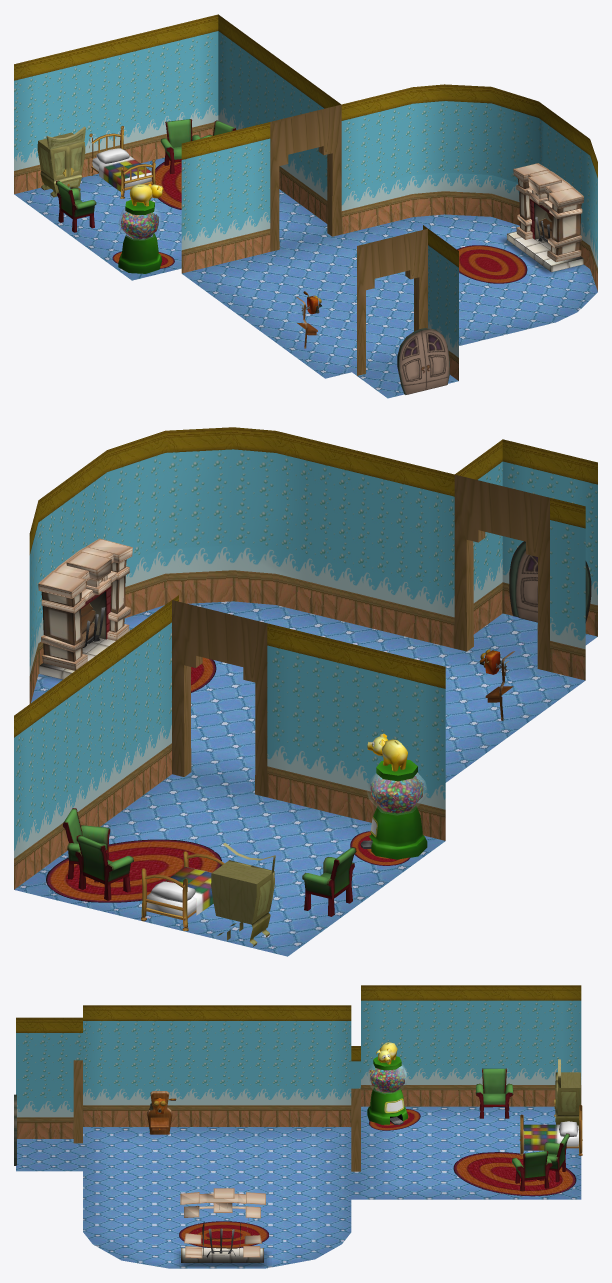
Rendered from house_interior.glb.
3 renders of one model, top to bottom at view 1: azimuth 30°, elevation 25°; view 2: azimuth 150°, elevation 25°; view 3: azimuth 270°, elevation 25°, orthographic. The views are drawn at different scales.
Visible parts, largest first — view 1: floor, wall_front_middle, wall_front_middle2, floor2, wall_side_middle (×2), wall_front_bottom, FireplaceSquare, wall_front_top, wall_front_middle_border, arch, arch1, wall_front_top2 (+20 smaller); view 2: wall_front_middle, floor, floor2, wall_front_middle2, wall_side_middle (×2), wall_front_top, wall_front_bottom, FireplaceSquare, arch1, arch, wall_front_middle_border, wall_side_bottom2 (+25 smaller); view 3: floor, wall_side_middle (×2), floor2, wall_side_bottom, wall_side_top, wall_side_middle_border, FireplaceSquare, wall_side_top2, wall_side_bottom2, windowcut_b, windowcut_a, wall_side_middle2_border (+15 smaller).
Part boxes in pixels (bbox=[...]): floor: bbox=[182, 214, 597, 398]; wall_front_middle: bbox=[181, 101, 597, 249]; wall_front_middle2: bbox=[14, 31, 218, 152]; floor2: bbox=[14, 157, 327, 280]; wall_side_middle (×2): bbox=[218, 31, 458, 338]; wall_front_bottom: bbox=[181, 191, 597, 291]; FireplaceSquare: bbox=[507, 163, 583, 272]; wall_front_top: bbox=[181, 84, 597, 177]; wall_front_middle_border: bbox=[181, 172, 597, 267]; arch: bbox=[270, 104, 341, 251]; arch1: bbox=[357, 228, 427, 375]; wall_front_top2: bbox=[14, 14, 218, 80]; wall_front_middle: bbox=[29, 449, 597, 650]; floor: bbox=[31, 601, 597, 794]; floor2: bbox=[14, 774, 445, 956]; wall_front_middle2: bbox=[267, 645, 445, 784]; wall_side_middle (×2): bbox=[14, 462, 502, 833]; wall_front_top: bbox=[29, 427, 597, 554]; wall_front_bottom: bbox=[29, 570, 597, 703]; FireplaceSquare: bbox=[38, 538, 132, 679]; arch1: bbox=[454, 474, 549, 671]; arch: bbox=[172, 600, 267, 797]; wall_front_middle_border: bbox=[29, 545, 597, 675]; wall_side_bottom2: bbox=[14, 743, 171, 889]; floor: bbox=[16, 1127, 360, 1268]; wall_side_middle (×2): bbox=[16, 1000, 581, 1099]; floor2: bbox=[360, 1106, 581, 1199]; wall_side_bottom: bbox=[17, 1105, 351, 1138]; wall_side_top: bbox=[16, 1005, 360, 1061]; wall_side_middle_border: bbox=[17, 1087, 351, 1117]; FireplaceSquare: bbox=[180, 1188, 265, 1262]; wall_side_top2: bbox=[361, 985, 581, 1000]; wall_side_bottom2: bbox=[361, 1085, 581, 1106]; windowcut_b: bbox=[433, 1037, 509, 1067]; windowcut_a: bbox=[179, 1057, 255, 1087]; wall_side_middle2_border: bbox=[361, 1067, 581, 1084].
Size of the model in its own units: 40.67 by 14.23 by 60.94.
Materials: 43 (41 with a texture image).
